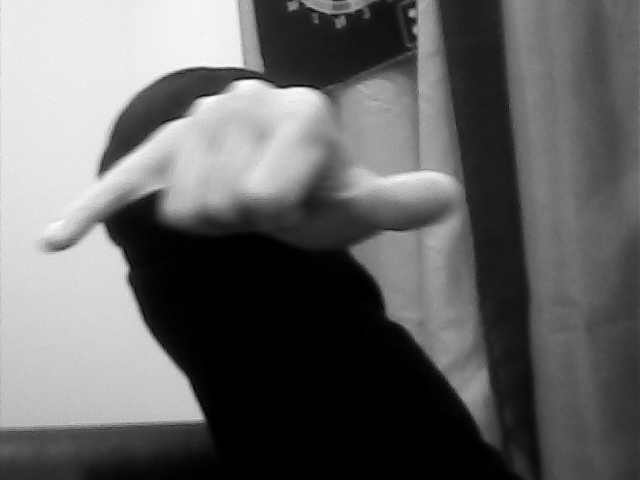aloha: (34, 77, 468, 261)
